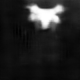plane: (24, 2, 66, 30)
